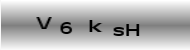6: (58, 21, 73, 35)
H: (125, 22, 140, 37)
V: (35, 16, 52, 30)
k: (88, 18, 101, 34)
s: (112, 26, 124, 37)
